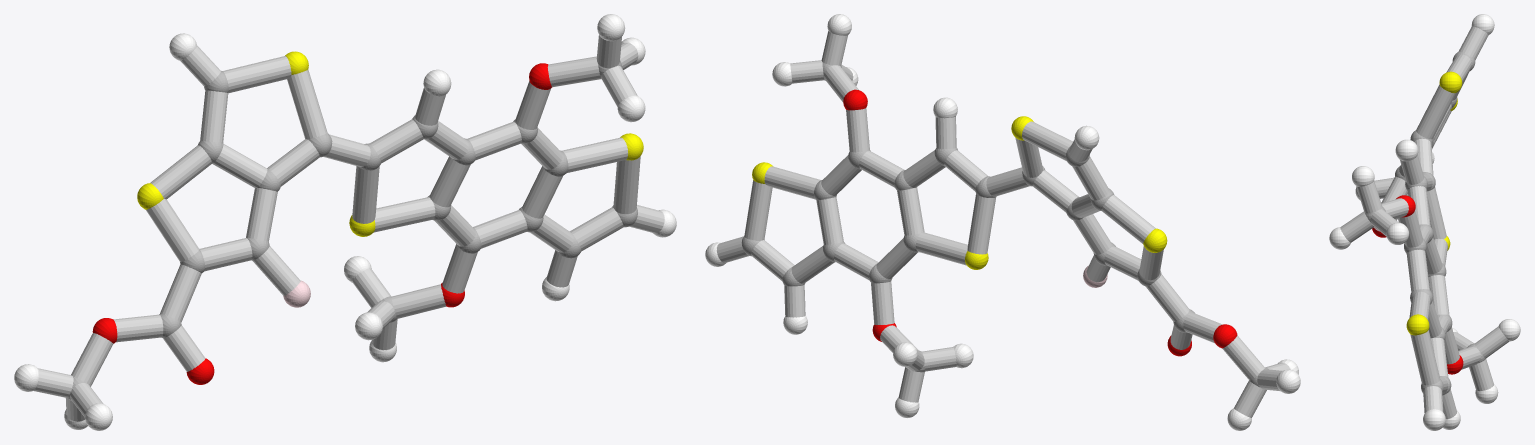
The model's file is color.glb.
The picture shows the model from 3 angles, left to right: view 1: azimuth 30°, elevation 25°; view 2: azimuth 150°, elevation 25°; view 3: azimuth 270°, elevation 25°; orthographic projection. The views are drawn at different scales.
Visible parts, largest first — view 1: grp15205, grp8689, grp1, grp13395, grp7241; view 2: grp15205, grp8689, grp1, grp7241, grp13395; view 3: grp15205, grp8689, grp1, grp7241, grp13395.
Boxes of the visible parts, left/top/right/bottom form: grp15205: left=33, top=35, right=664, bottom=421; grp8689: left=14, top=14, right=676, bottom=430; grp1: left=67, top=60, right=637, bottom=400; grp13395: left=92, top=63, right=551, bottom=384; grp7241: left=137, top=51, right=643, bottom=236; grp15205: left=716, top=31, right=1290, bottom=417; grp8689: left=705, top=14, right=1300, bottom=430; grp1: left=741, top=62, right=1268, bottom=387; grp7241: left=752, top=116, right=1167, bottom=269; grp13395: left=843, top=89, right=1237, bottom=356; grp15205: left=1340, top=26, right=1509, bottom=419; grp8689: left=1329, top=14, right=1520, bottom=430; grp1: left=1365, top=51, right=1485, bottom=395; grp7241: left=1406, top=71, right=1462, bottom=335; grp13395: left=1372, top=195, right=1463, bottom=374.
Size of the model in its own units: 16.49 by 8.93 by 5.03.
